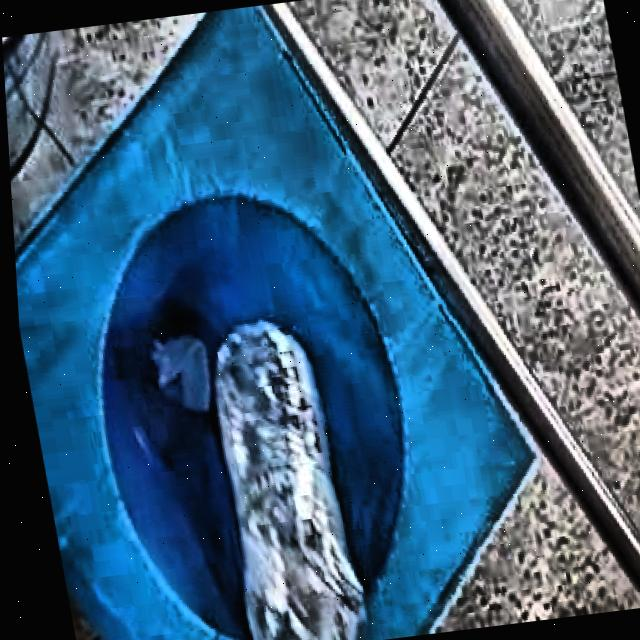plastic: (205, 320, 353, 640)
